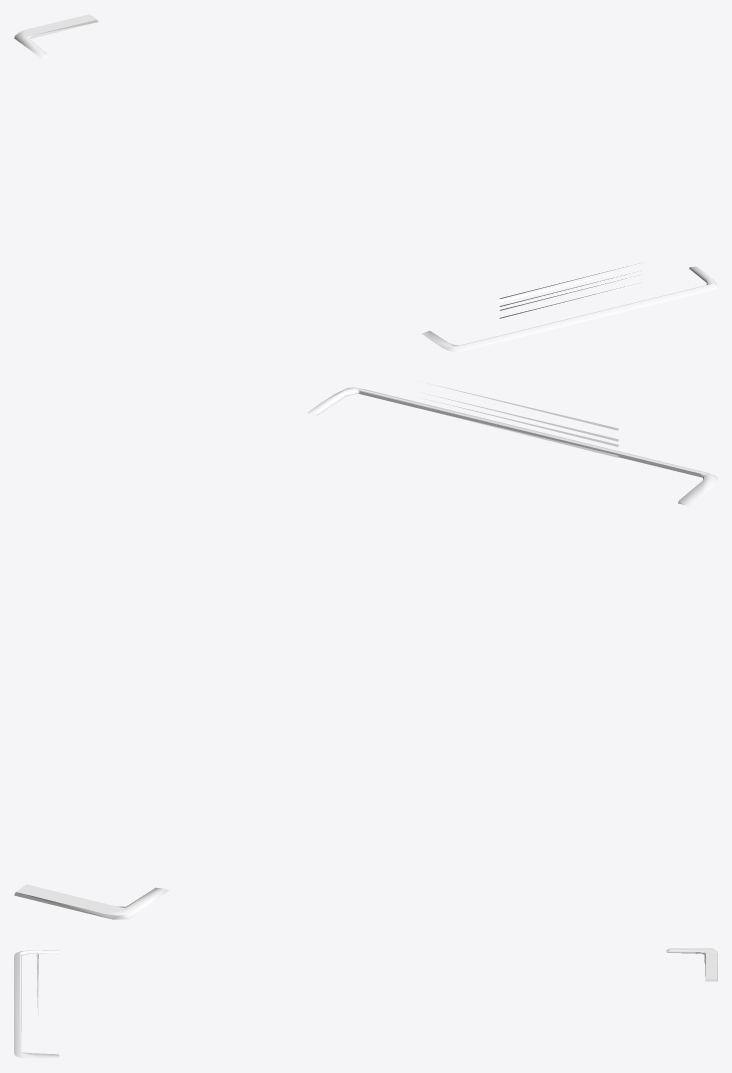
3 views of the same model, one above another, from view 1: azimuth 30°, elevation 25°; view 2: azimuth 150°, elevation 25°; view 3: azimuth 270°, elevation 25° (orthographic). The views are drawn at different scales.
Bounding box in the file's own units: 1.52 × 0.1602 × 4.13.
Materials: 1 (1 with a texture image).
